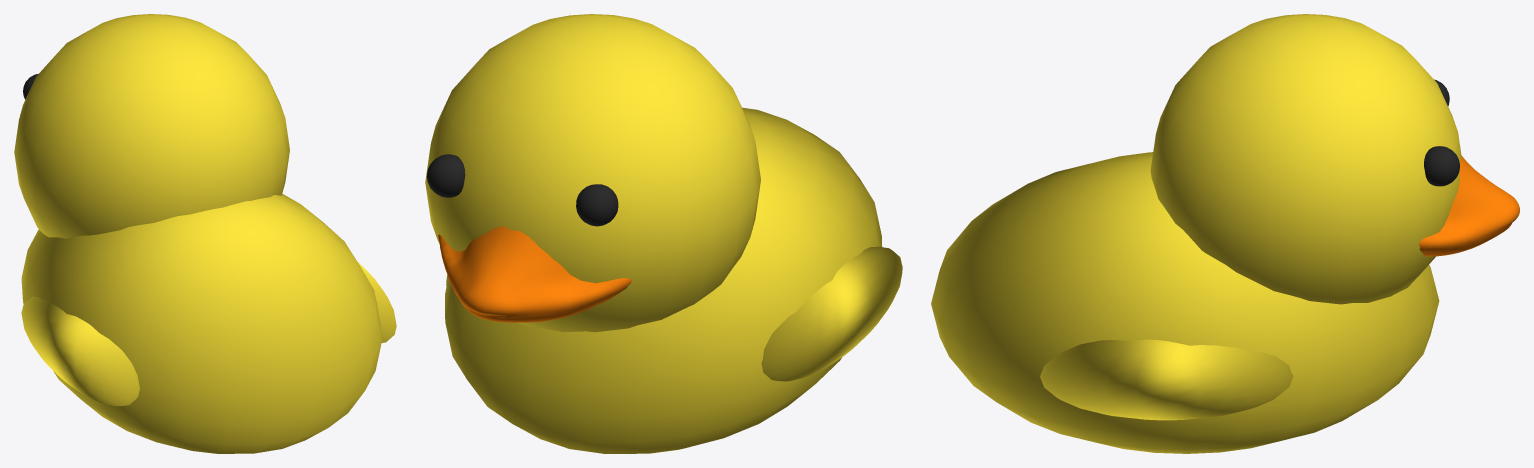
Rendered from duck.fbx.
3 views of the same model, side by side, from view 1: azimuth 30°, elevation 25°; view 2: azimuth 150°, elevation 25°; view 3: azimuth 270°, elevation 25° (orthographic). The views are drawn at different scales.
Parts seen in each view (by area): view 1: Duck_Body, Duck_Head01, Duck_Fins1, Duck_Fins; view 2: Duck_Head01, Duck_Body, Duck_Bill, Duck_Fins1, Duck_Eye1, Duck_Eye2; view 3: Duck_Body, Duck_Head01, Duck_Fins, Duck_Bill, Duck_Eye2.
Boxes of the visible parts, x1=… form: Duck_Body: x1=21, y1=194, x2=381, y2=453; Duck_Head01: x1=14, y1=14, x2=289, y2=238; Duck_Fins1: x1=21, y1=296, x2=139, y2=406; Duck_Fins: x1=358, y1=262, x2=396, y2=342; Duck_Head01: x1=425, y1=14, x2=760, y2=332; Duck_Body: x1=445, y1=107, x2=882, y2=453; Duck_Bill: x1=438, y1=226, x2=632, y2=322; Duck_Fins1: x1=761, y1=246, x2=902, y2=381; Duck_Eye1: x1=576, y1=184, x2=618, y2=226; Duck_Eye2: x1=426, y1=154, x2=465, y2=197; Duck_Body: x1=931, y1=152, x2=1439, y2=453; Duck_Head01: x1=1150, y1=14, x2=1461, y2=304; Duck_Fins: x1=1040, y1=339, x2=1293, y2=420; Duck_Bill: x1=1418, y1=155, x2=1519, y2=256; Duck_Eye2: x1=1424, y1=146, x2=1459, y2=186.
Size of the model in its own units: 9.4 by 10.82 by 14.21.
